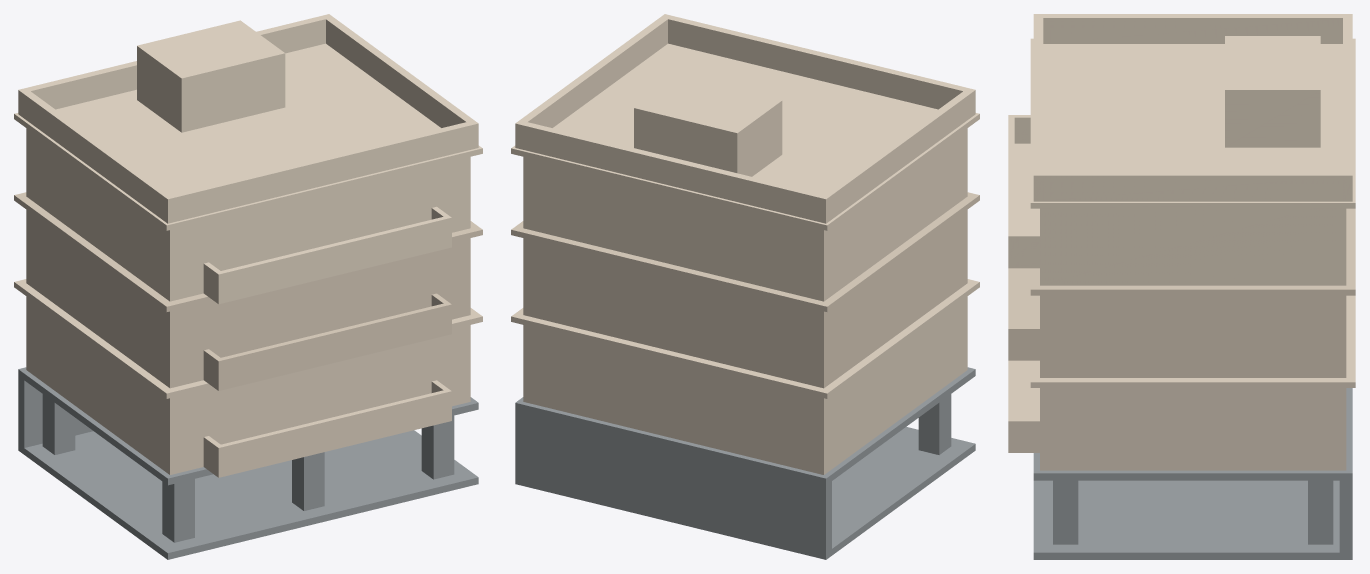
The model's file is parcel_1.glb.
3 renders of one model, left to right at view 1: azimuth 30°, elevation 25°; view 2: azimuth 150°, elevation 25°; view 3: azimuth 270°, elevation 25°, orthographic. The views are drawn at different scales.
Parts seen in each view (by area): view 1: Floor_3, Floor_2, Floor_1, Floor_0; view 2: Floor_3, Floor_2, Floor_1, Floor_0; view 3: Floor_3, Floor_1, Floor_2, Floor_0.
Part boxes in pixels (x1,y1,x2,y2): Floor_3: [14, 14, 482, 304]; Floor_2: [14, 192, 482, 390]; Floor_1: [14, 279, 482, 477]; Floor_0: [18, 367, 478, 559]; Floor_3: [511, 14, 979, 301]; Floor_2: [511, 192, 979, 388]; Floor_1: [511, 279, 979, 474]; Floor_0: [515, 367, 975, 559]; Floor_3: [1008, 14, 1355, 285]; Floor_1: [1008, 295, 1355, 470]; Floor_2: [1008, 208, 1355, 377]; Floor_0: [1033, 388, 1352, 559].
Bounding box in the file's own units: 12.2 × 14.4 × 10.9.
